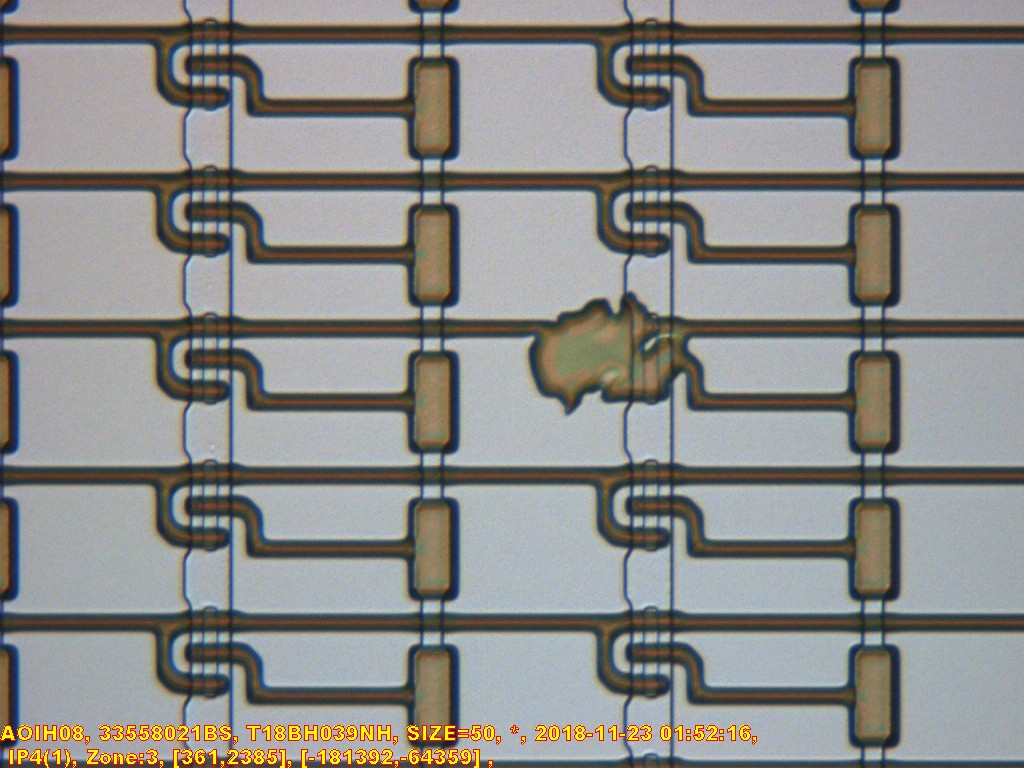good: (147, 18, 270, 121), (588, 18, 711, 121), (147, 165, 270, 268), (588, 165, 711, 268), (146, 312, 269, 415), (147, 459, 270, 562), (588, 459, 711, 562), (147, 606, 270, 709), (588, 606, 711, 709), (402, 52, 459, 157), (844, 52, 901, 157), (402, 199, 459, 304), (844, 200, 901, 305), (402, 347, 459, 452), (844, 347, 901, 452), (402, 494, 459, 599), (843, 494, 900, 599), (843, 641, 900, 746)
ng: (526, 293, 711, 415)
